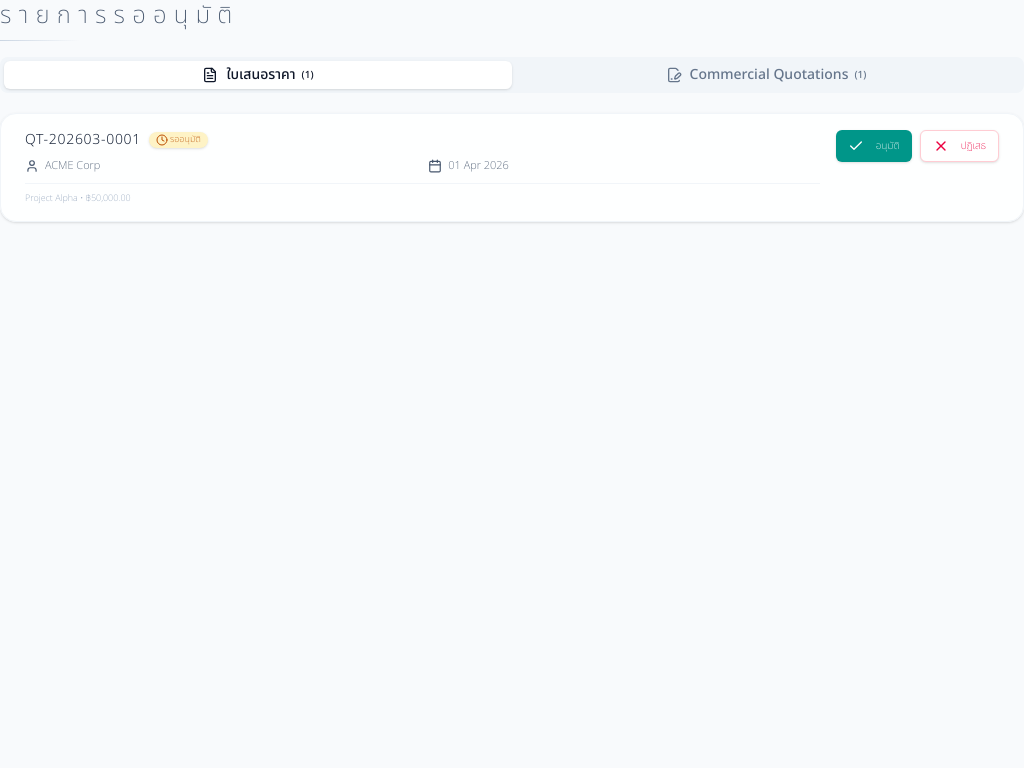
Test case: ApprovalsPage › opens reject dialog when reject button clicked
Click the button "ปฏิเสธ" at (959, 146), box top-left (920, 130), bottom-right (999, 162)
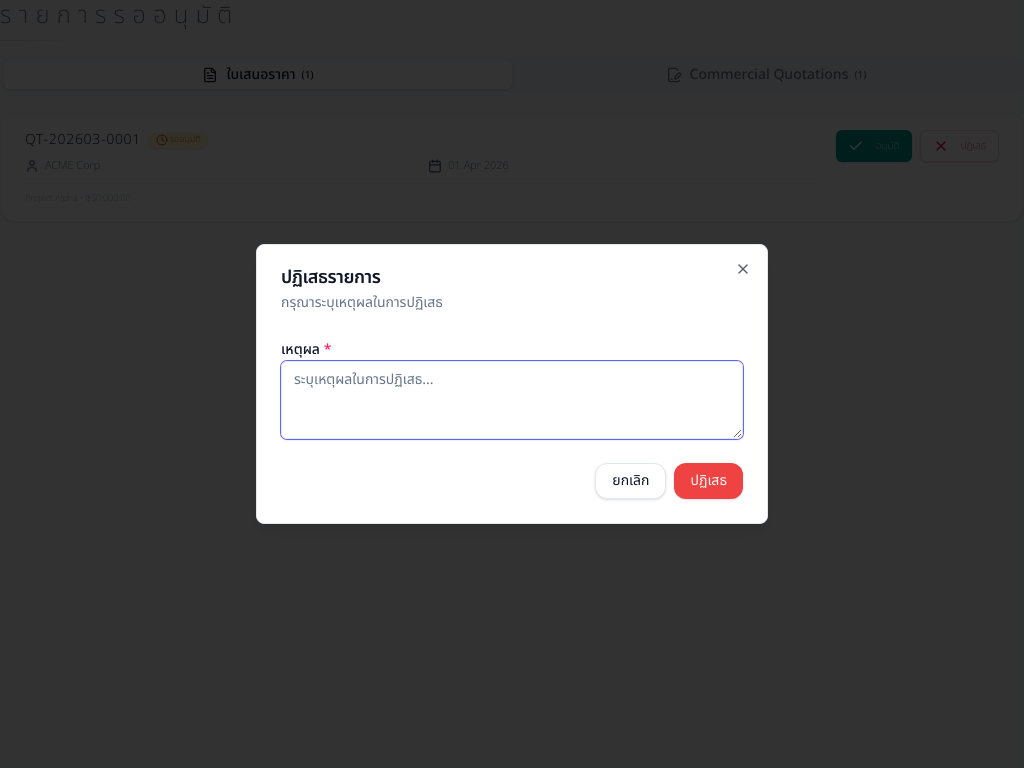
Expected: the heading "ปฏิเสธรายการ" is shown, top-left (281, 264), bottom-right (380, 291)
